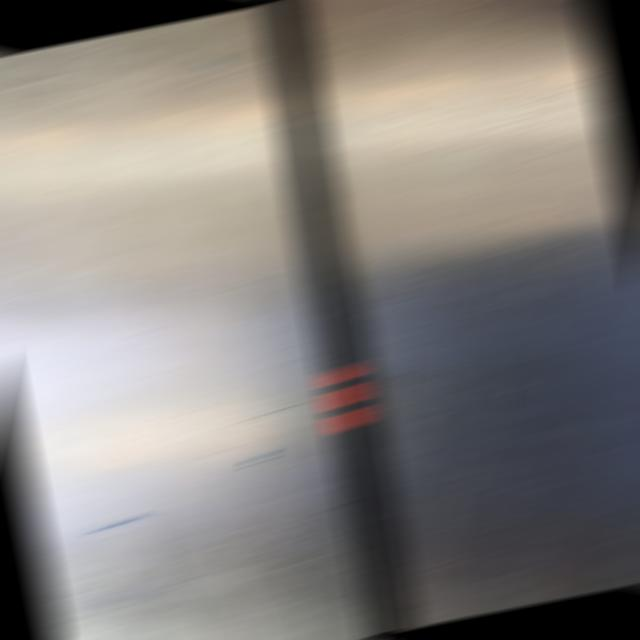red: (314, 363, 379, 432)
